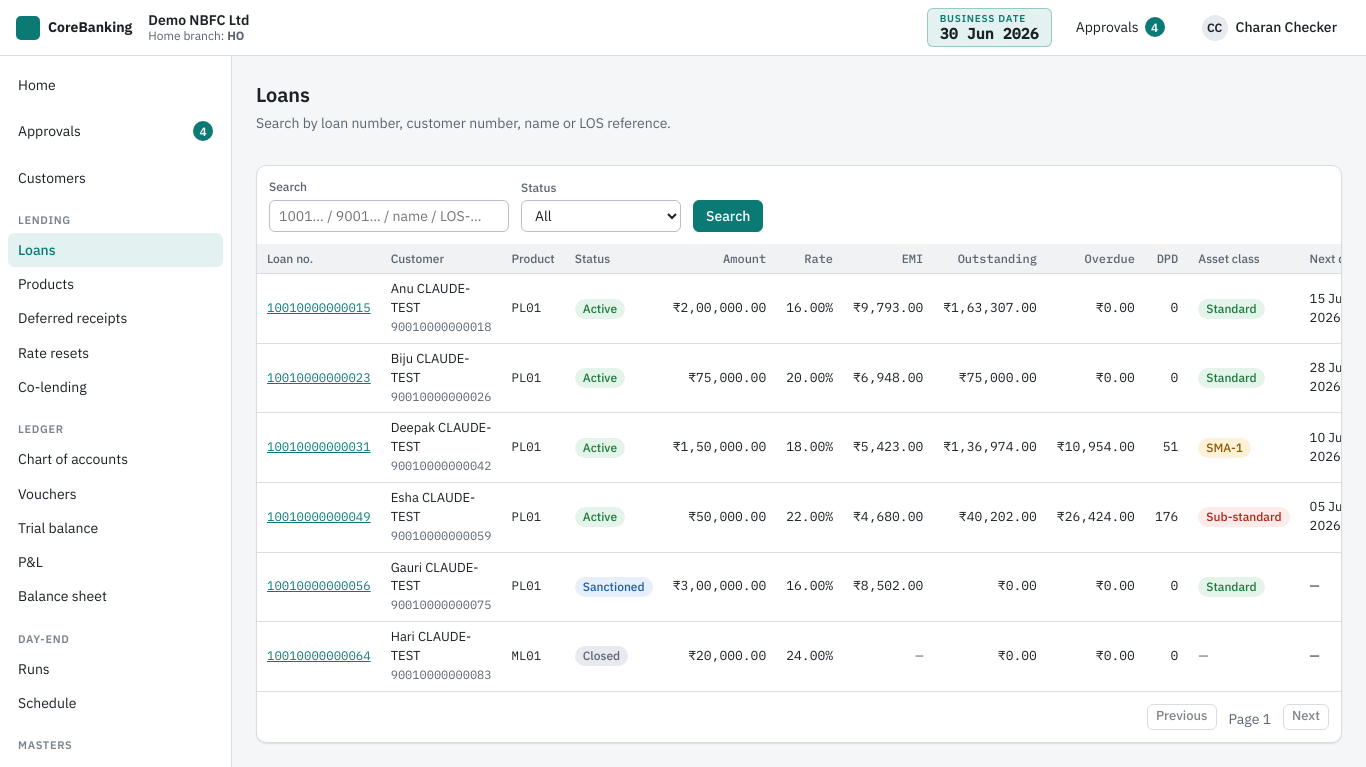
Test: loans list › shows DPD and asset-class badges and filters by status
Expected: the text "Deepak CLAUDE-TEST" is shown, 391,419 -> 491,455
Expected: the text "51" is shown, 1145,413 -> 1188,482
Select "Sanctioned" in the dropdown labelled "Status" at (601, 216), box 521,200 -> 681,232
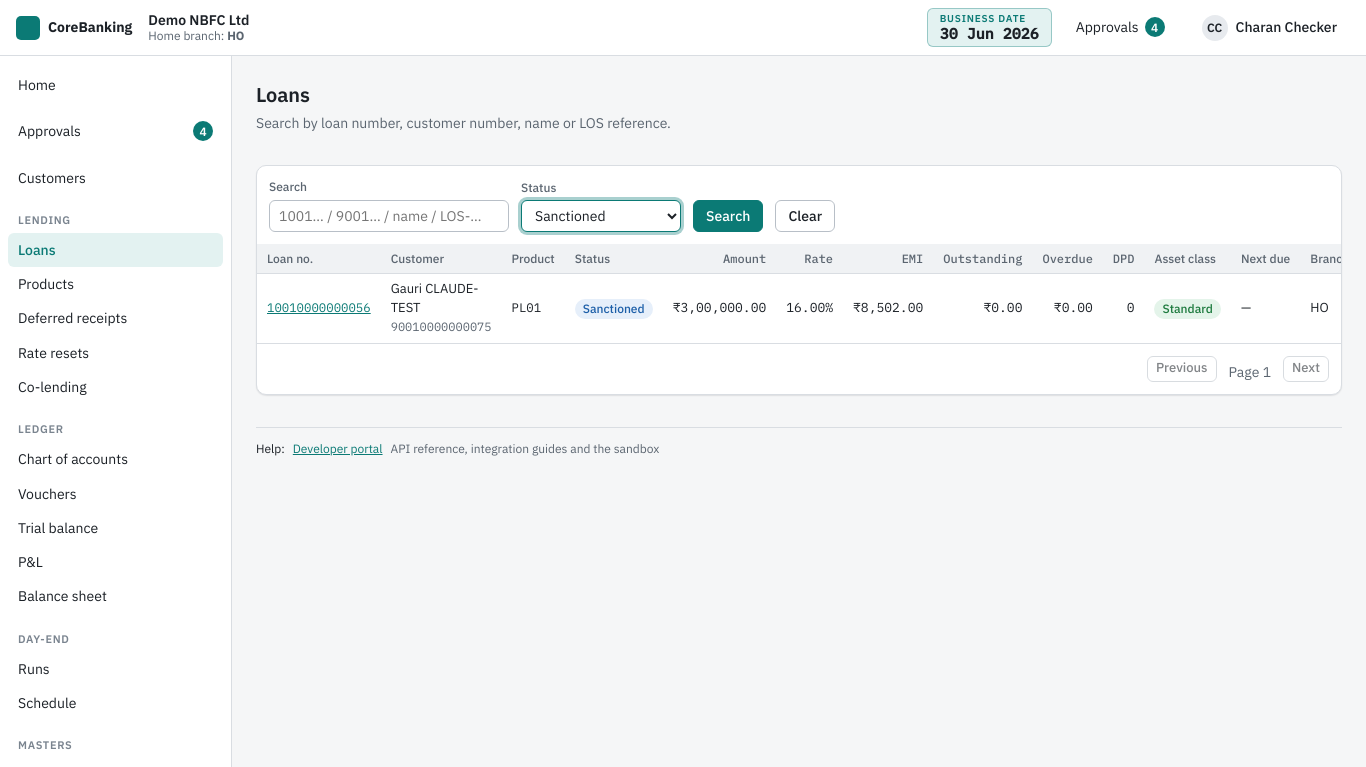
Now the text "Deepak CLAUDE-TEST" is gone
Now the row named "Open loan" is shown, box 257,274 -> 1341,343
Select "All" in the dropdown labelled "Status" at (601, 216), box 521,200 -> 681,232
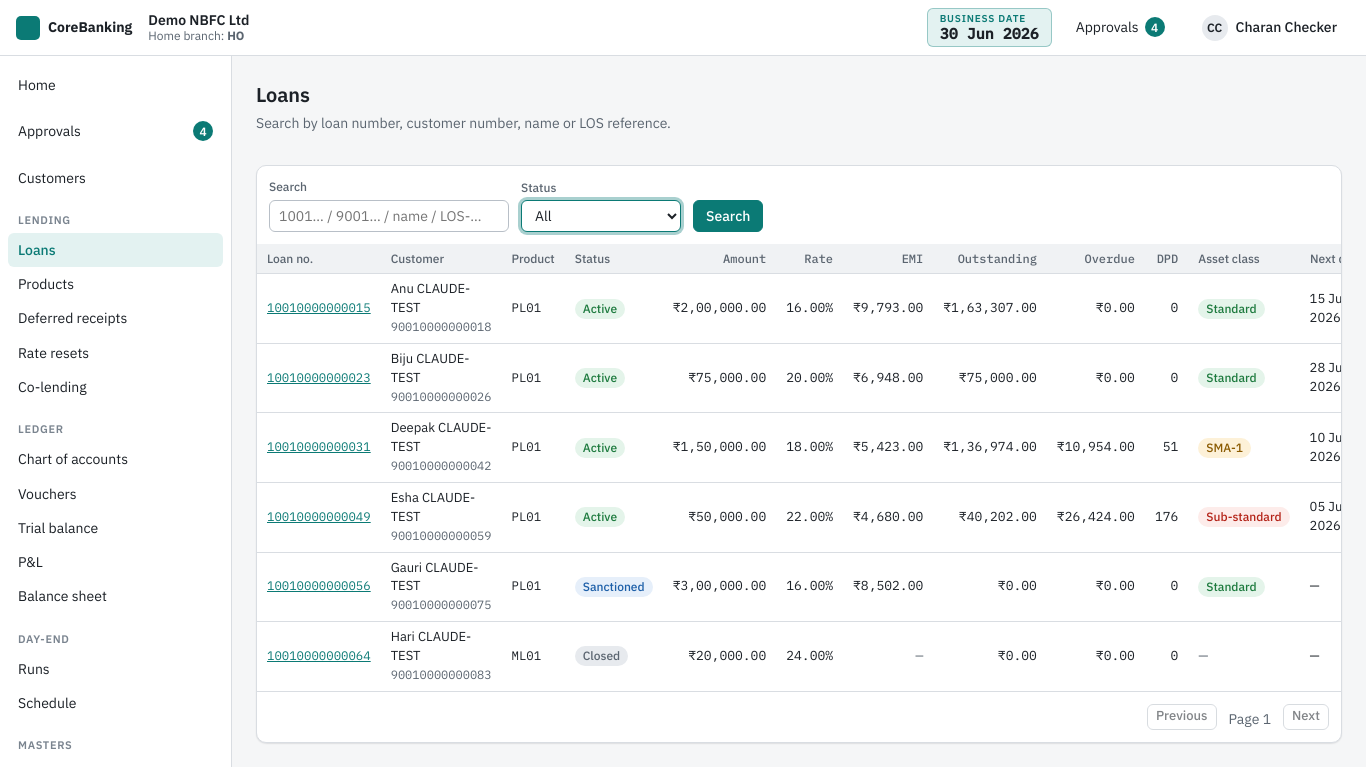
Type "LOS-CLAUDE-TEST-0002" into the field labelled "Search".
click(389, 216); type("LOS-CLAUDE-TEST-0002")  # box 269,200 -> 509,232
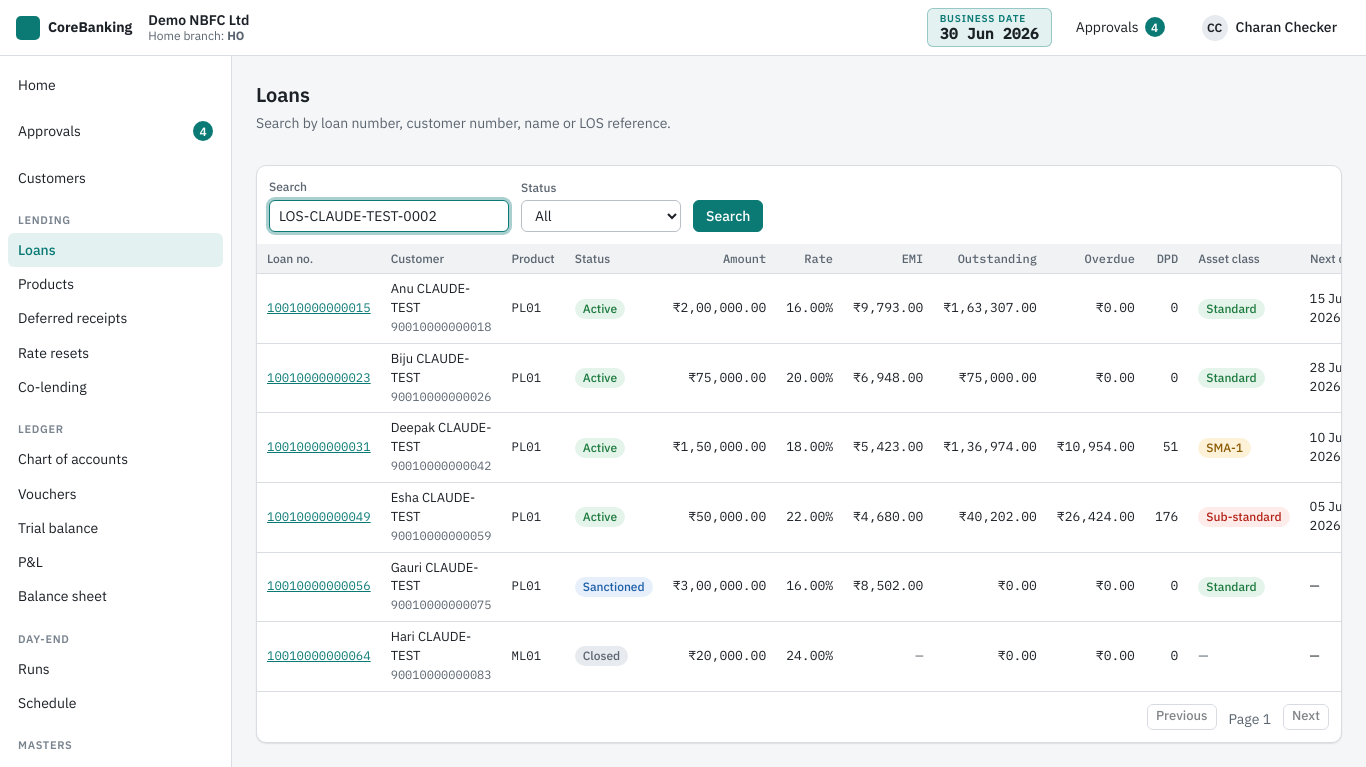
Click the button "Search".
click(728, 216)  # box 693,200 -> 763,232
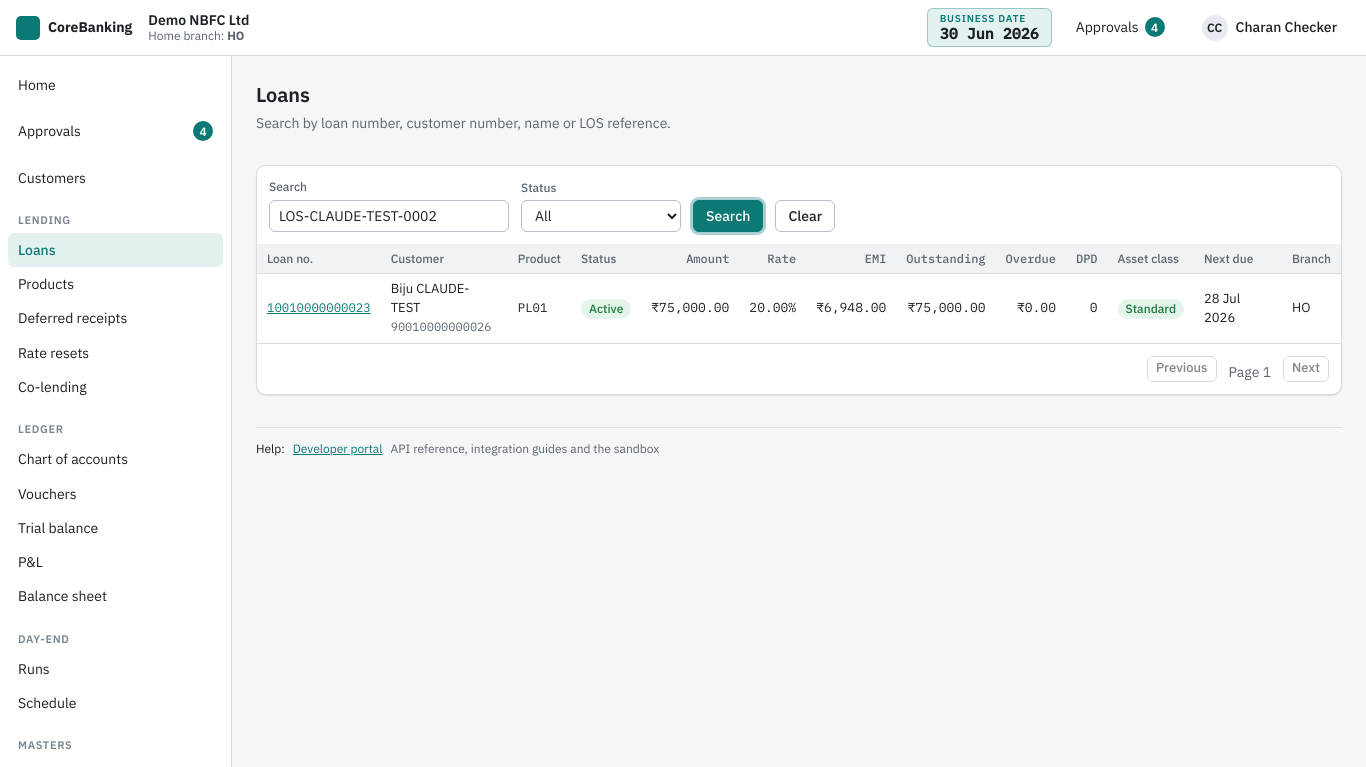
Now the number of rows named "Open loan" is 1, box 257,274 -> 1341,343
